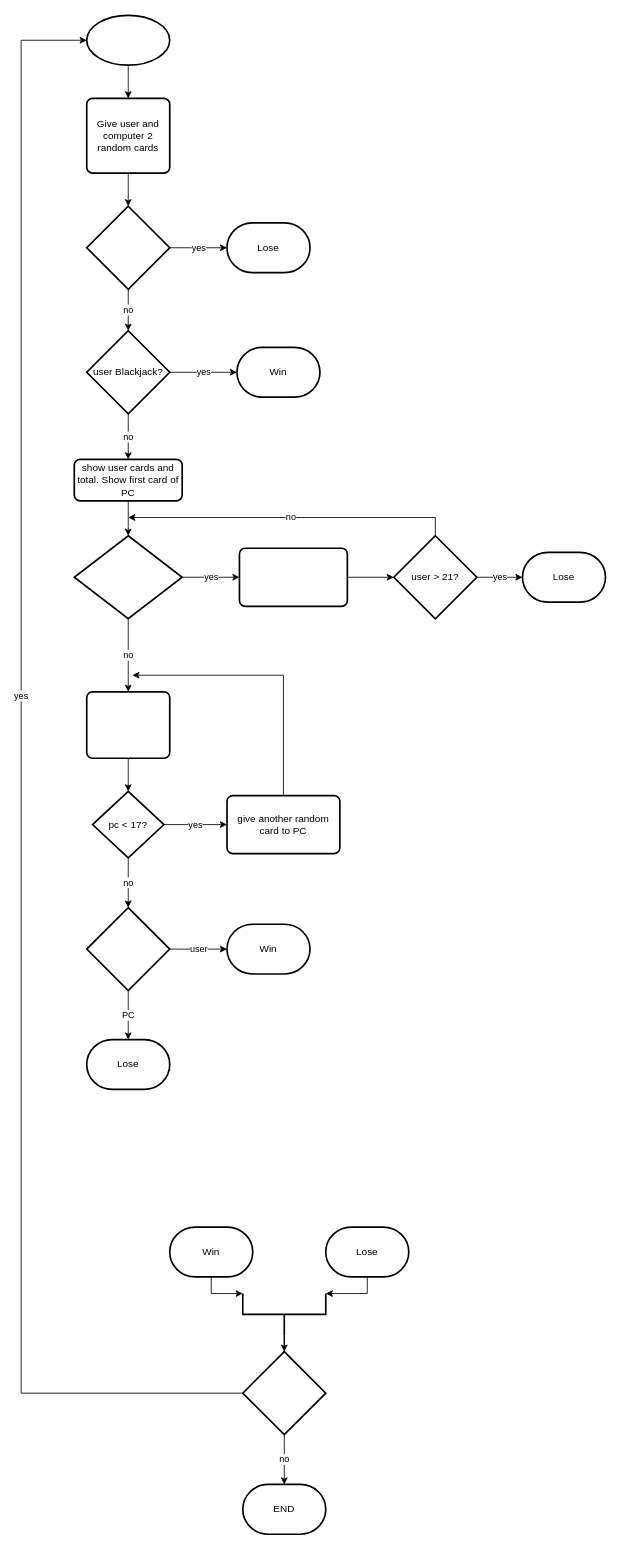
The diagram is 621 pixels wide and 1549 high, and some of its shapes have lost their labels. Each missing label, with the centre of its shape:
"Calculate user and PC scores" belongs at point 127,725.
"give another random card to user" belongs at point 293,577.
"PC Blackjack?" belongs at point 127,247.
"Start" belongs at point 127,40.
"user want another card?" belongs at point 128,577.
"Want to play again?" belongs at point 284,1392.
"who is bigger?" belongs at point 127,948.
